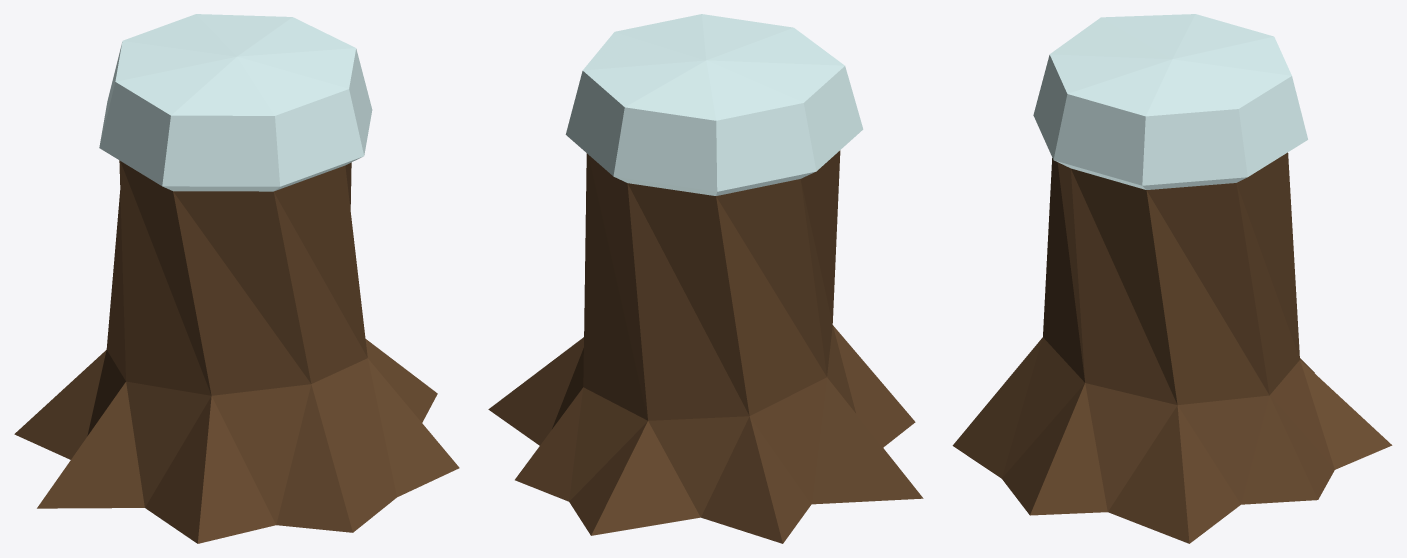
File: nature_stump-snow.fbx
The picture shows the model from 3 angles, left to right: view 1: azimuth 30°, elevation 25°; view 2: azimuth 150°, elevation 25°; view 3: azimuth 270°, elevation 25°; orthographic projection. The views are drawn at different scales.
Parts seen in each view (by area): view 1: nature_stump_snow; view 2: nature_stump_snow; view 3: nature_stump_snow.
Boxes of the visible parts, bbox=[...] form: nature_stump_snow: bbox=[14, 14, 459, 543]; nature_stump_snow: bbox=[488, 14, 923, 543]; nature_stump_snow: bbox=[952, 14, 1392, 543].
Bounding box in the file's own units: 200 × 186 × 187.
